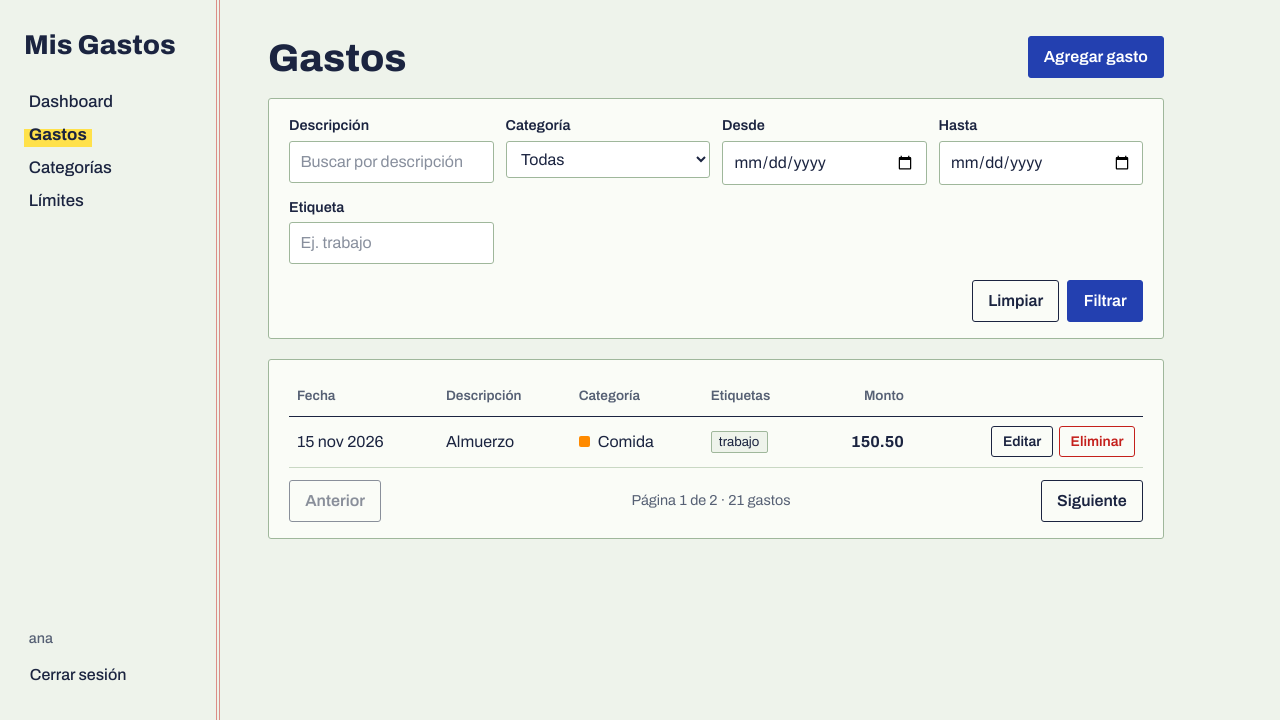
Test: ExpensesPage: list › requests the next and previous page
Expected: the heading "Gastos" is shown, [268, 38, 407, 78]
Expected: the text "Página 1 de 2 · 21 gastos" is shown, [632, 490, 791, 512]
Step 1. Click the button "Siguiente" → (1092, 501), box [1041, 480, 1143, 522]
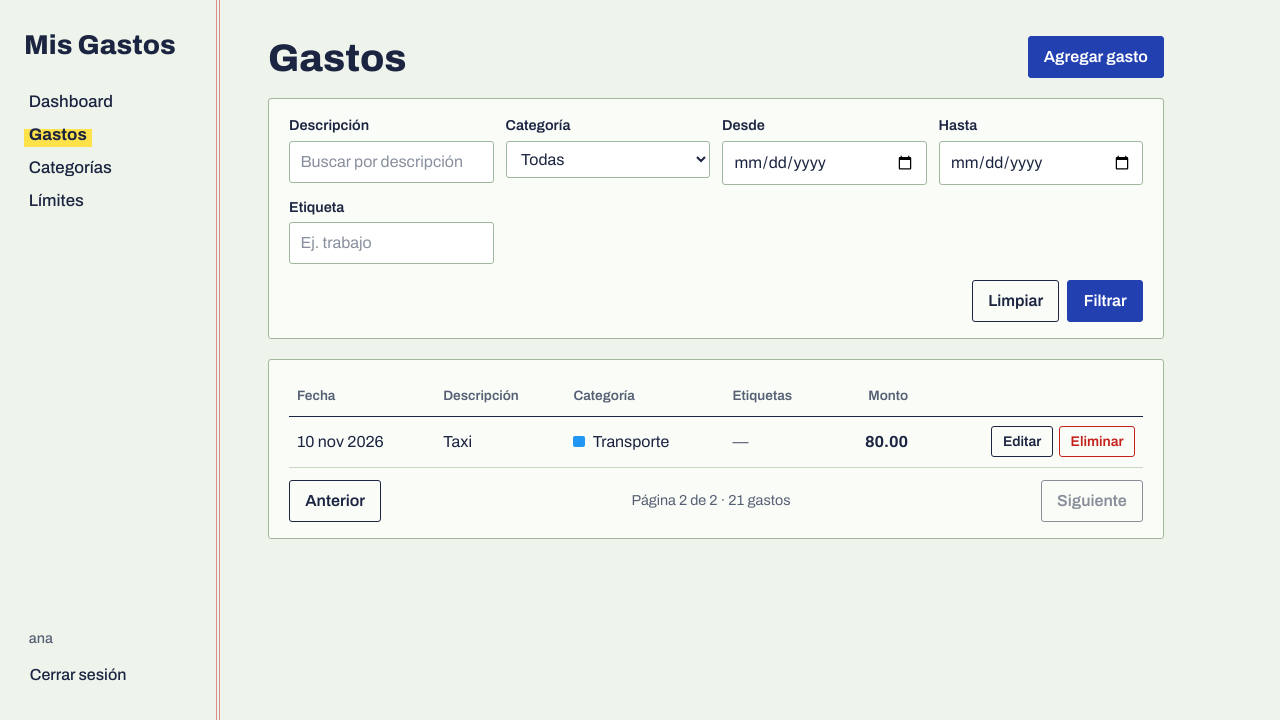
Expected: the text "Página 2 de 2 · 21 gastos" is shown, [632, 490, 791, 512]
Expected: the text "Taxi" is shown, [435, 416, 566, 468]
Expected: the button "Siguiente" is disabled, [1041, 480, 1143, 522]
Step 2. Click the button "Anterior" → (335, 501), box [289, 480, 381, 522]
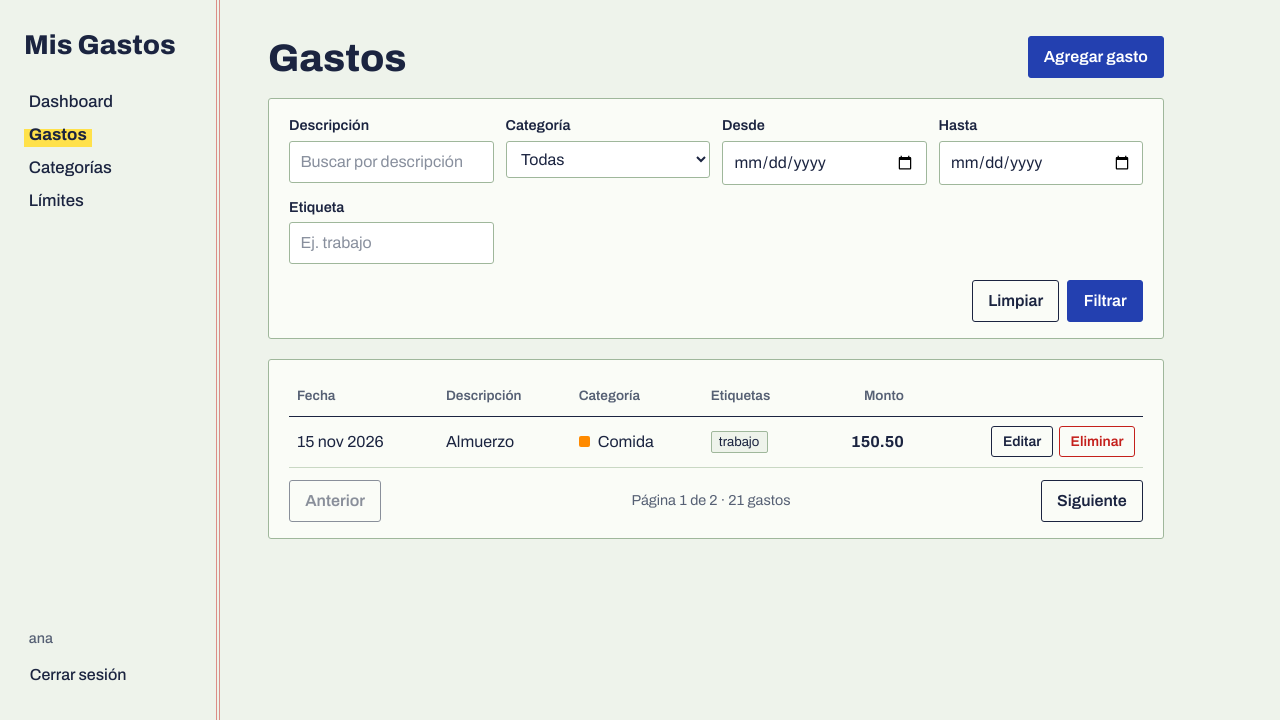
Expected: the text "Página 1 de 2 · 21 gastos" is shown, [632, 490, 791, 512]
